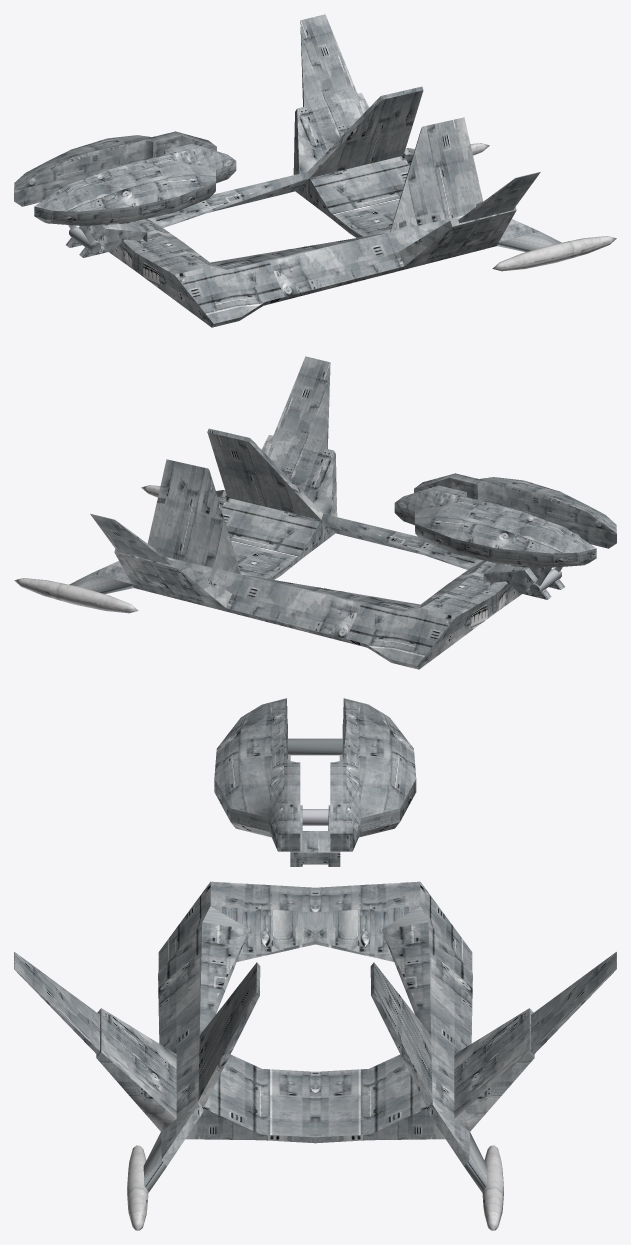
The model's file is stp23.obj.
The picture shows the model from 3 angles, top to bottom: view 1: azimuth 30°, elevation 25°; view 2: azimuth 150°, elevation 25°; view 3: azimuth 270°, elevation 25°; orthographic projection. The views are drawn at different scales.
Visible parts, largest first — view 1: PROF_FIGHTER0, MESH010, MESH020.002, TURRET_ARM0; view 2: PROF_FIGHTER0, MESH010, MESH020.002, TURRET_ARM0; view 3: PROF_FIGHTER0, MESH010, MESH020.002, TURRET_ARM0.
Part boxes in pixels (<box>): PROF_FIGHTER0: <box>109,14,616,327</box>; MESH010: <box>14,131,236,225</box>; MESH020.002: <box>66,221,147,257</box>; TURRET_ARM0: <box>51,191,101,253</box>; PROF_FIGHTER0: <box>14,356,521,669</box>; MESH010: <box>394,473,616,567</box>; MESH020.002: <box>483,563,564,599</box>; TURRET_ARM0: <box>529,533,580,594</box>; PROF_FIGHTER0: <box>14,881,616,1230</box>; MESH010: <box>214,698,416,851</box>; MESH020.002: <box>290,805,340,866</box>; TURRET_ARM0: <box>287,738,342,825</box>.
Bounding box in the file's own units: 55.11 × 14.94 × 38.84.
Materials: 4 (4 with a texture image).
